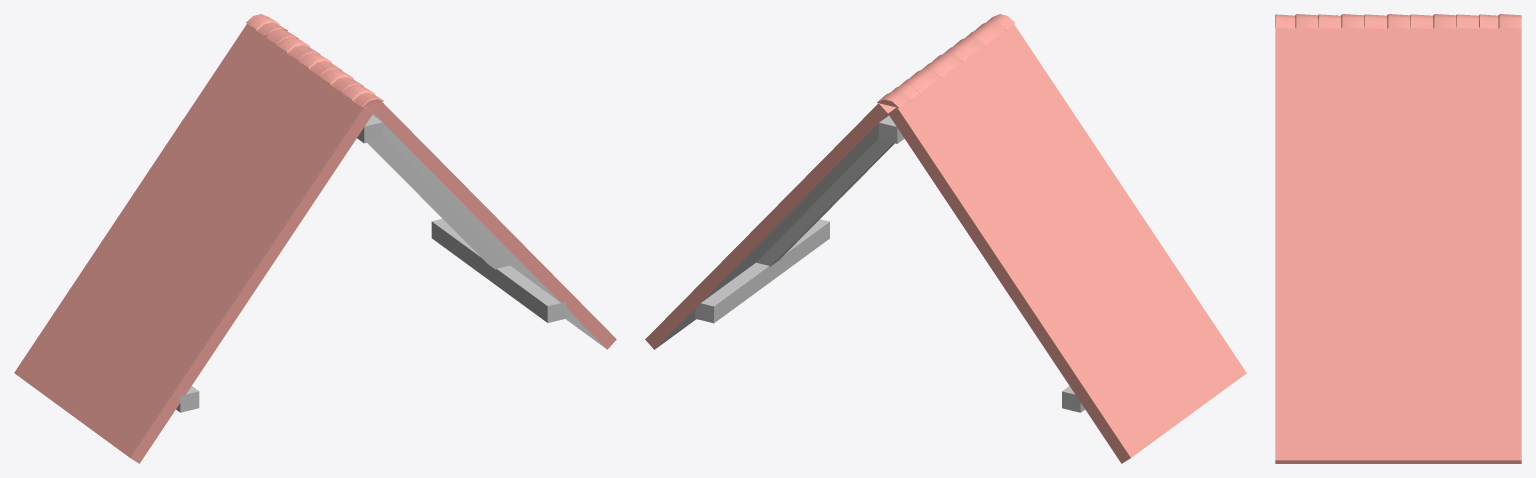
The model's file is dfk_roof_small_middle.fbx.
The picture shows the model from 3 angles, left to right: view 1: azimuth 30°, elevation 25°; view 2: azimuth 150°, elevation 25°; view 3: azimuth 270°, elevation 25°; orthographic projection. The views are drawn at different scales.
Parts seen in each view (by area): view 1: dfk_roof_small_middle; view 2: dfk_roof_small_middle; view 3: dfk_roof_small_middle.
Boxes of the visible parts, x1,y1,x2,y2 form: dfk_roof_small_middle: [14, 14, 616, 463]; dfk_roof_small_middle: [645, 14, 1246, 463]; dfk_roof_small_middle: [1275, 14, 1521, 463].
Size of the model in its own units: 6.05 by 3.66 by 2.5.
